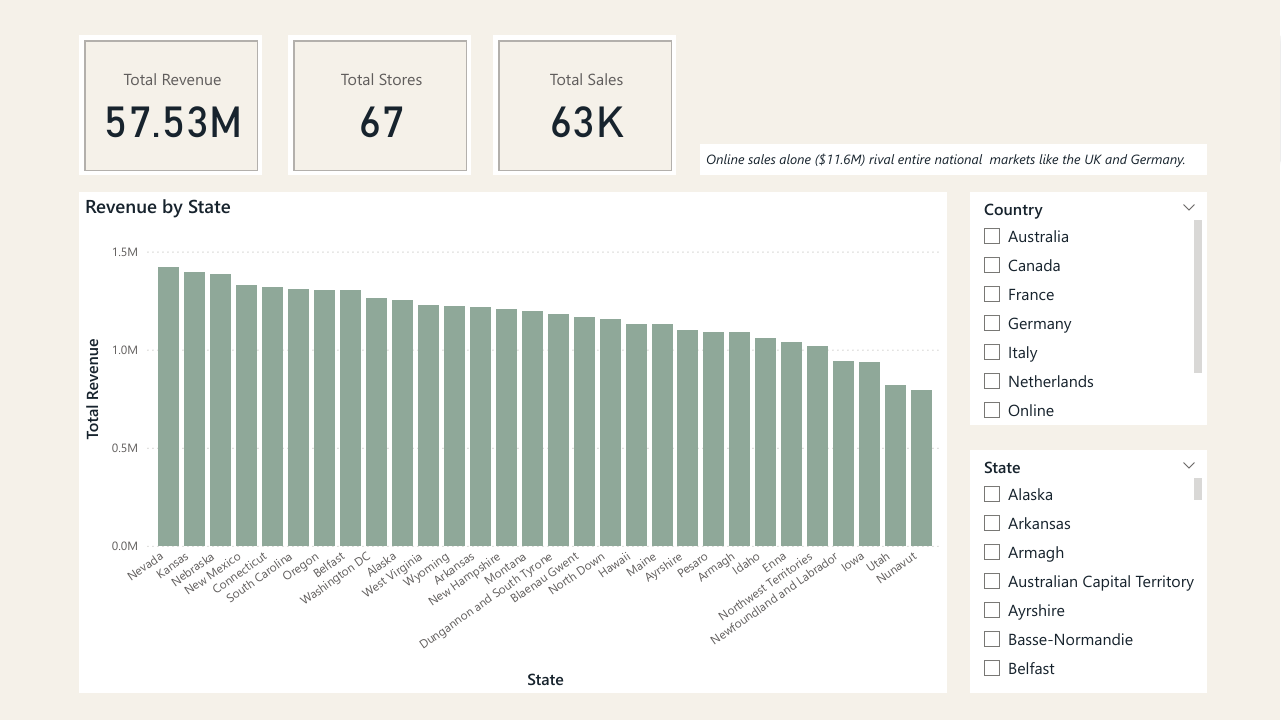

What the dashboard file says about the page in this screenshot:
{"tool":"powerbi","page":{"name":"Store performance","canvas":[1280,720],"ordinal":1},"visuals":[{"type":"columnChart","title":"Revenue by State","fields":{"Category":["stores.State"],"Y":["sales.Total Revenue"]},"box":[79,192,868,501],"z":0},{"type":"slicer","fields":{"Values":["stores.Country"]},"box":[970,192,237,233],"z":1000},{"type":"slicer","fields":{"Values":["stores.State"]},"box":[970,450,237,243],"z":2000},{"type":"cardVisual","fields":{"Data":["sales.Total Revenue"]},"box":[79,35,183,140],"z":3000},{"type":"textbox","box":[700,144,507,31],"z":4000},{"type":"cardVisual","fields":{"Data":["stores.Total Stores"]},"box":[288,35,183,140],"z":4001},{"type":"cardVisual","fields":{"Data":["sales.Total Sales"]},"box":[493,35,183,140],"z":4002}]}

Visuals, with their boxes in screenshot pixels (x1, y1, x2, y2), scaled from the page's 1280x720 canvas onto the 1282x724 screenshot:
"Revenue by State" columnChart: 79, 193, 948, 697
slicer - stores.Country: 972, 193, 1209, 427
slicer - stores.State: 972, 452, 1209, 697
cardVisual - sales.Total Revenue: 79, 35, 262, 176
textbox: 701, 145, 1209, 176
cardVisual - stores.Total Stores: 288, 35, 472, 176
cardVisual - sales.Total Sales: 494, 35, 677, 176
